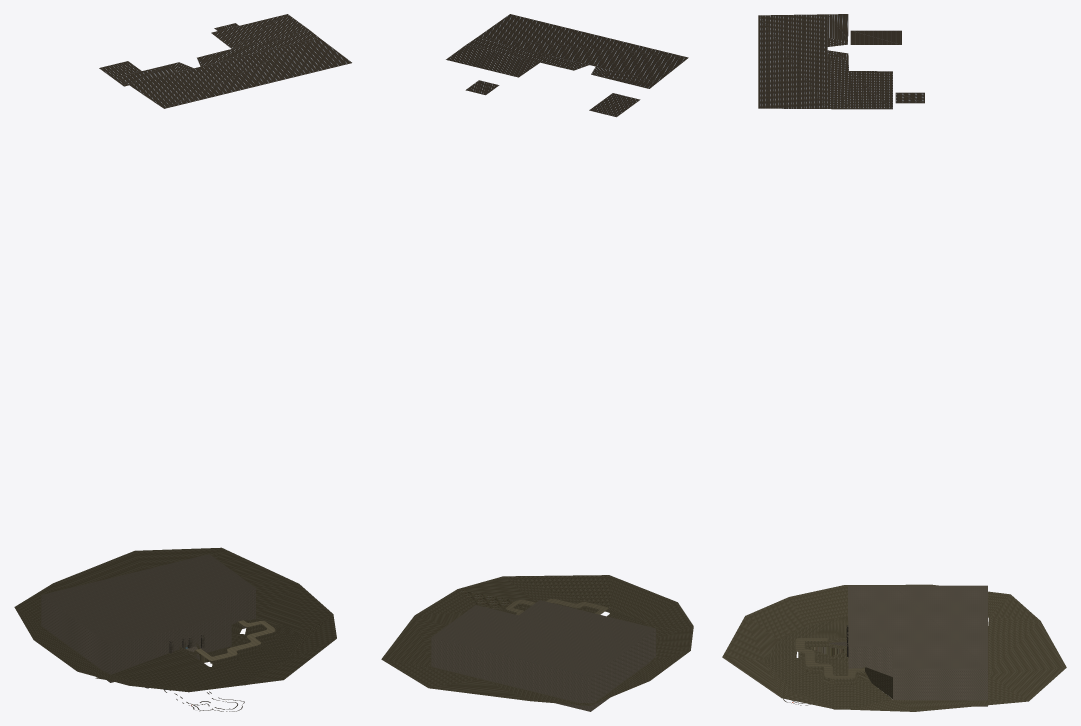
The picture shows the model from 3 angles, left to right: view 1: azimuth 30°, elevation 25°; view 2: azimuth 150°, elevation 25°; view 3: azimuth 270°, elevation 25°; orthographic projection. The views are drawn at different scales.
Parts seen in each view (by area): view 1: polygon18.010, polygon13.014, polygon22.008, polygon7.015, polygon1.016, polygon17.011, polygon9.015; view 2: polygon18.010, polygon13.014, polygon22.008, polygon7.015, polygon9.015; view 3: polygon18.010, polygon13.014, polygon22.008, polygon1.016, polygon7.015, polygon17.011, polygon9.015.
Boxes of the visible parts, box(x1,y1,x2,y2) form: polygon18.010: box(14, 547, 336, 692); polygon13.014: box(99, 14, 351, 108); polygon22.008: box(42, 554, 255, 645); polygon7.015: box(41, 588, 255, 682); polygon1.016: box(95, 619, 301, 688); polygon17.011: box(211, 620, 276, 665); polygon9.015: box(195, 620, 275, 660); polygon18.010: box(381, 575, 693, 705); polygon13.014: box(446, 14, 688, 117); polygon22.008: box(431, 600, 655, 676); polygon7.015: box(431, 629, 655, 711); polygon9.015: box(506, 599, 608, 615); polygon18.010: box(722, 584, 1066, 711); polygon13.014: box(758, 14, 924, 109); polygon22.008: box(848, 585, 987, 668); polygon1.016: box(764, 616, 892, 709); polygon7.015: box(848, 586, 987, 706); polygon17.011: box(794, 641, 871, 684); polygon9.015: box(795, 638, 864, 678).
Size of what is drawn, in the model's own units: 229134 by 541695 by 262397.
Materials: 30 (30 with a texture image).
